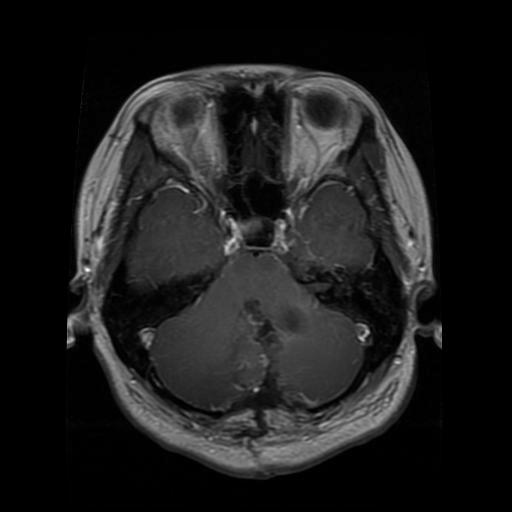Tumour-Glioma: (251, 295, 334, 357)
